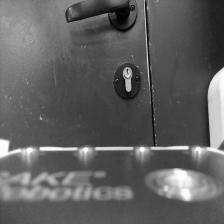Door Handle: (63, 0, 139, 34)
Lock: (114, 61, 141, 100)
